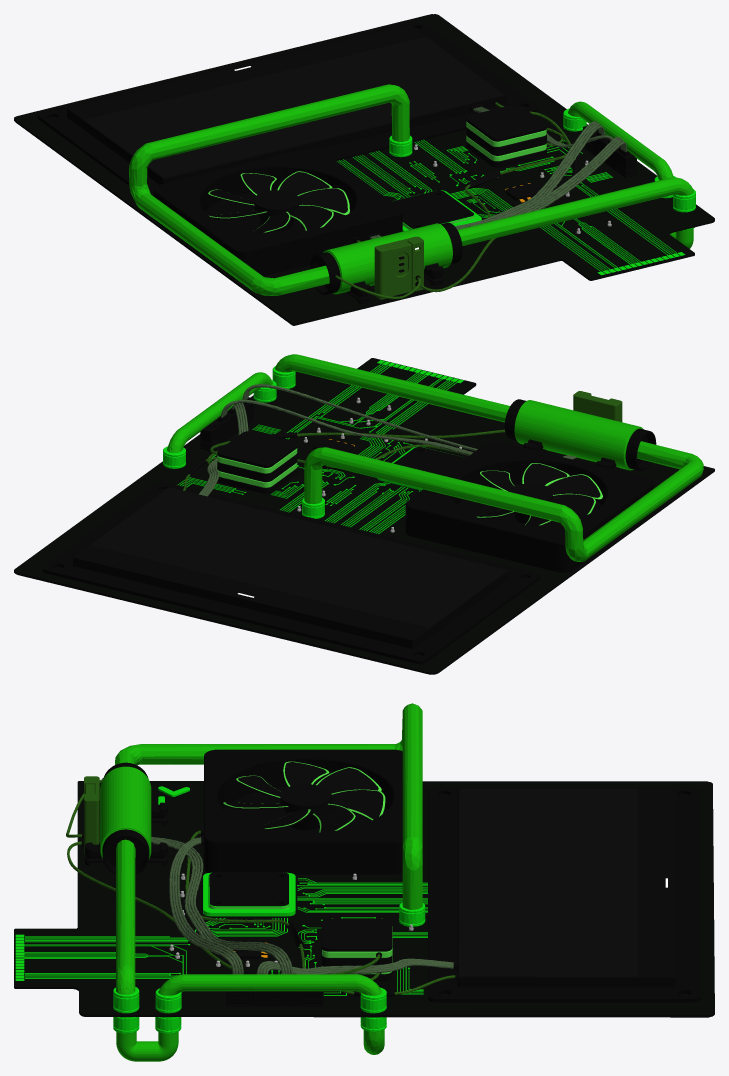
3 views of the same model, one above another, from view 1: azimuth 30°, elevation 25°; view 2: azimuth 150°, elevation 25°; view 3: azimuth 270°, elevation 25° (orthographic). The views are drawn at different scales.
Visible parts, largest first — view 1: bool_obj.frozen, Cube.frozen.frozen, bool_obj.017.frozen.frozen.frozen, Pipe.003.frozen, bool_obj.008.frozen.frozen, Circle.001_Circle.003.frozen.frozen, bool_obj.023.frozen.frozen, Pipe.001.frozen, Curve.frozen.frozen, bool_obj.055.frozen.frozen, bool_obj.014.frozen.frozen.001.frozen, bool_obj.011.frozen.frozen.frozen (+9 smaller); view 2: Cube.frozen.frozen, bool_obj.frozen, bool_obj.017.frozen.frozen.frozen, bool_obj.008.frozen.frozen, Pipe.003.frozen, bool_obj.023.frozen.frozen, Pipe.001.frozen, Circle.001_Circle.003.frozen.frozen, Curve.frozen.frozen, bool_obj.014.frozen.frozen.001.frozen, Curve.003.frozen.frozen, Pipe.004.frozen (+8 smaller); view 3: bool_obj.frozen, Cube.frozen.frozen, bool_obj.017.frozen.frozen.frozen, bool_obj.008.frozen.frozen, Pipe.003.frozen, Circle.001_Circle.003.frozen.frozen, bool_obj.023.frozen.frozen, Curve.frozen.frozen, bool_obj.011.frozen.frozen.frozen, Pipe.004.frozen, Curve.003.frozen.frozen, Pipe.001.frozen (+10 smaller).
Part boxes in pixels (x1,y1,x2,y2): bool_obj.frozen: [14, 14, 714, 325]; Cube.frozen.frozen: [67, 24, 506, 184]; bool_obj.017.frozen.frozen.frozen: [153, 148, 402, 279]; Pipe.003.frozen: [129, 84, 409, 295]; bool_obj.008.frozen.frozen: [37, 21, 538, 195]; Circle.001_Circle.003.frozen.frozen: [207, 171, 350, 232]; bool_obj.023.frozen.frozen: [310, 222, 462, 294]; Pipe.001.frozen: [457, 177, 693, 245]; Curve.frozen.frozen: [337, 139, 582, 217]; bool_obj.055.frozen.frozen: [374, 236, 423, 299]; bool_obj.014.frozen.frozen.001.frozen: [466, 104, 546, 153]; bool_obj.011.frozen.frozen.frozen: [392, 190, 481, 231]; Cube.frozen.frozen: [73, 487, 508, 648]; bool_obj.frozen: [14, 358, 714, 674]; bool_obj.017.frozen.frozen.frozen: [405, 441, 653, 572]; bool_obj.008.frozen.frozen: [42, 482, 540, 664]; Pipe.003.frozen: [304, 441, 703, 561]; bool_obj.023.frozen.frozen: [504, 399, 656, 470]; Pipe.001.frozen: [275, 354, 509, 422]; Circle.001_Circle.003.frozen.frozen: [473, 463, 603, 525]; Curve.frozen.frozen: [177, 436, 420, 534]; bool_obj.014.frozen.frozen.001.frozen: [217, 431, 297, 479]; Curve.003.frozen.frozen: [285, 364, 456, 439]; Pipe.004.frozen: [167, 372, 272, 452]; bool_obj.frozen: [14, 781, 714, 1017]; Cube.frozen.frozen: [457, 789, 675, 987]; bool_obj.017.frozen.frozen.frozen: [204, 749, 402, 874]; bool_obj.008.frozen.frozen: [428, 787, 700, 1002]; Pipe.003.frozen: [115, 703, 422, 909]; Circle.001_Circle.003.frozen.frozen: [222, 761, 385, 832]; bool_obj.023.frozen.frozen: [100, 762, 151, 874]; Curve.frozen.frozen: [195, 878, 427, 995]; bool_obj.011.frozen.frozen.frozen: [203, 872, 295, 916]; Pipe.004.frozen: [156, 974, 381, 1007]; Curve.003.frozen.frozen: [24, 936, 190, 978]; Pipe.001.frozen: [116, 839, 135, 1010].
Bounding box in the file's own units: 8.09 × 2.05 × 9.91.
